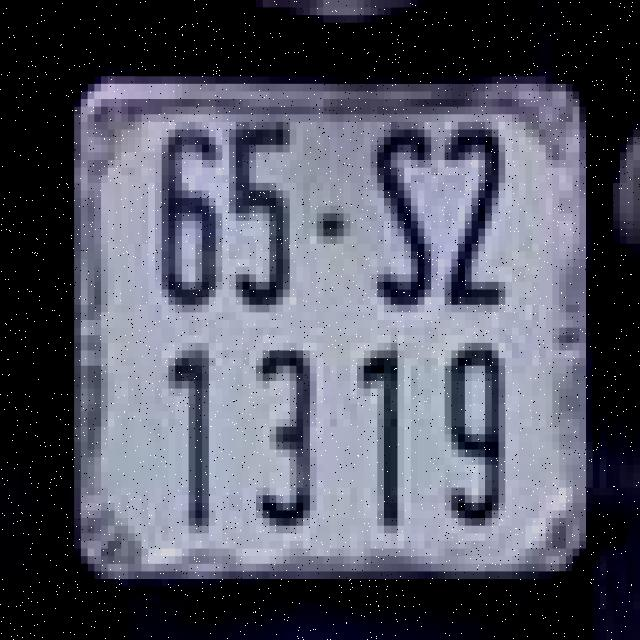1: (344, 324, 424, 552), (158, 331, 226, 560)
2: (438, 99, 519, 328)
3: (250, 332, 324, 552)
5: (226, 110, 300, 324)
6: (152, 118, 226, 316)
9: (438, 324, 512, 537)
S: (367, 118, 435, 316)
